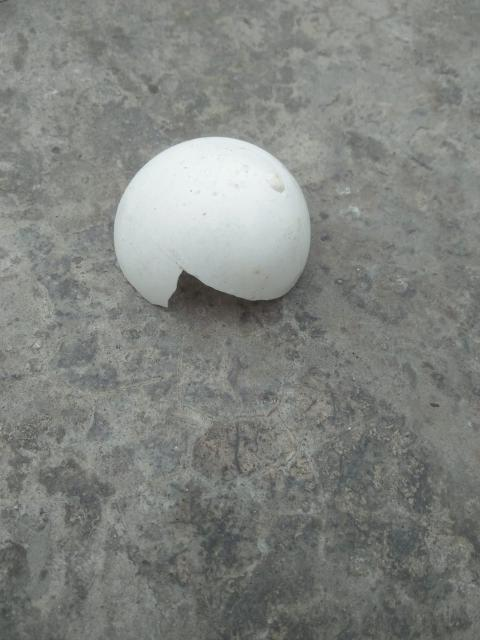Roto: (112, 134, 312, 308)
